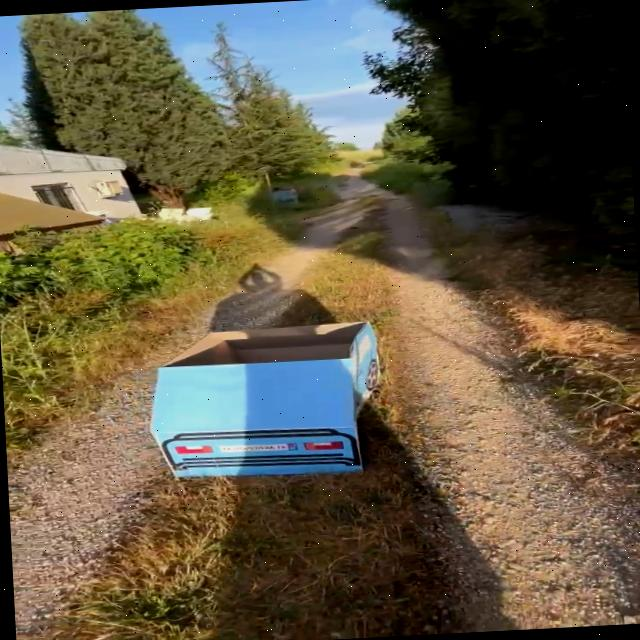blue_car: (116, 292, 434, 513)
